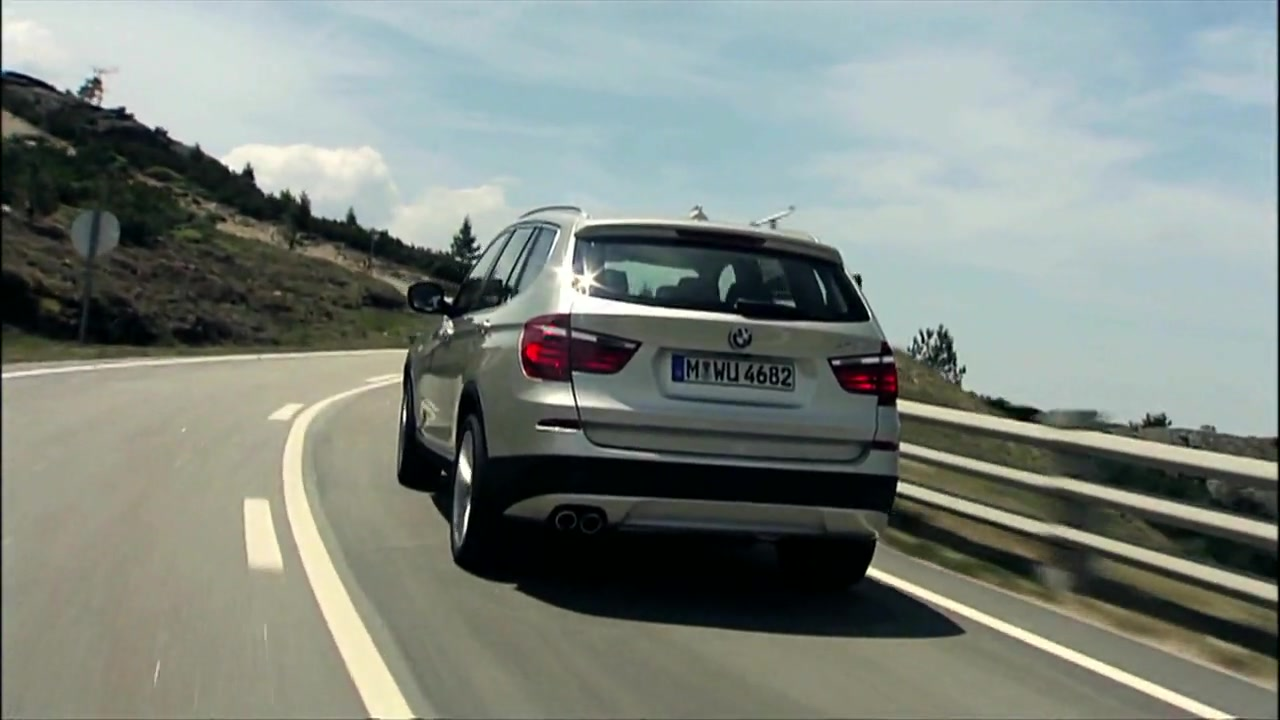car: (397, 205, 906, 588)
